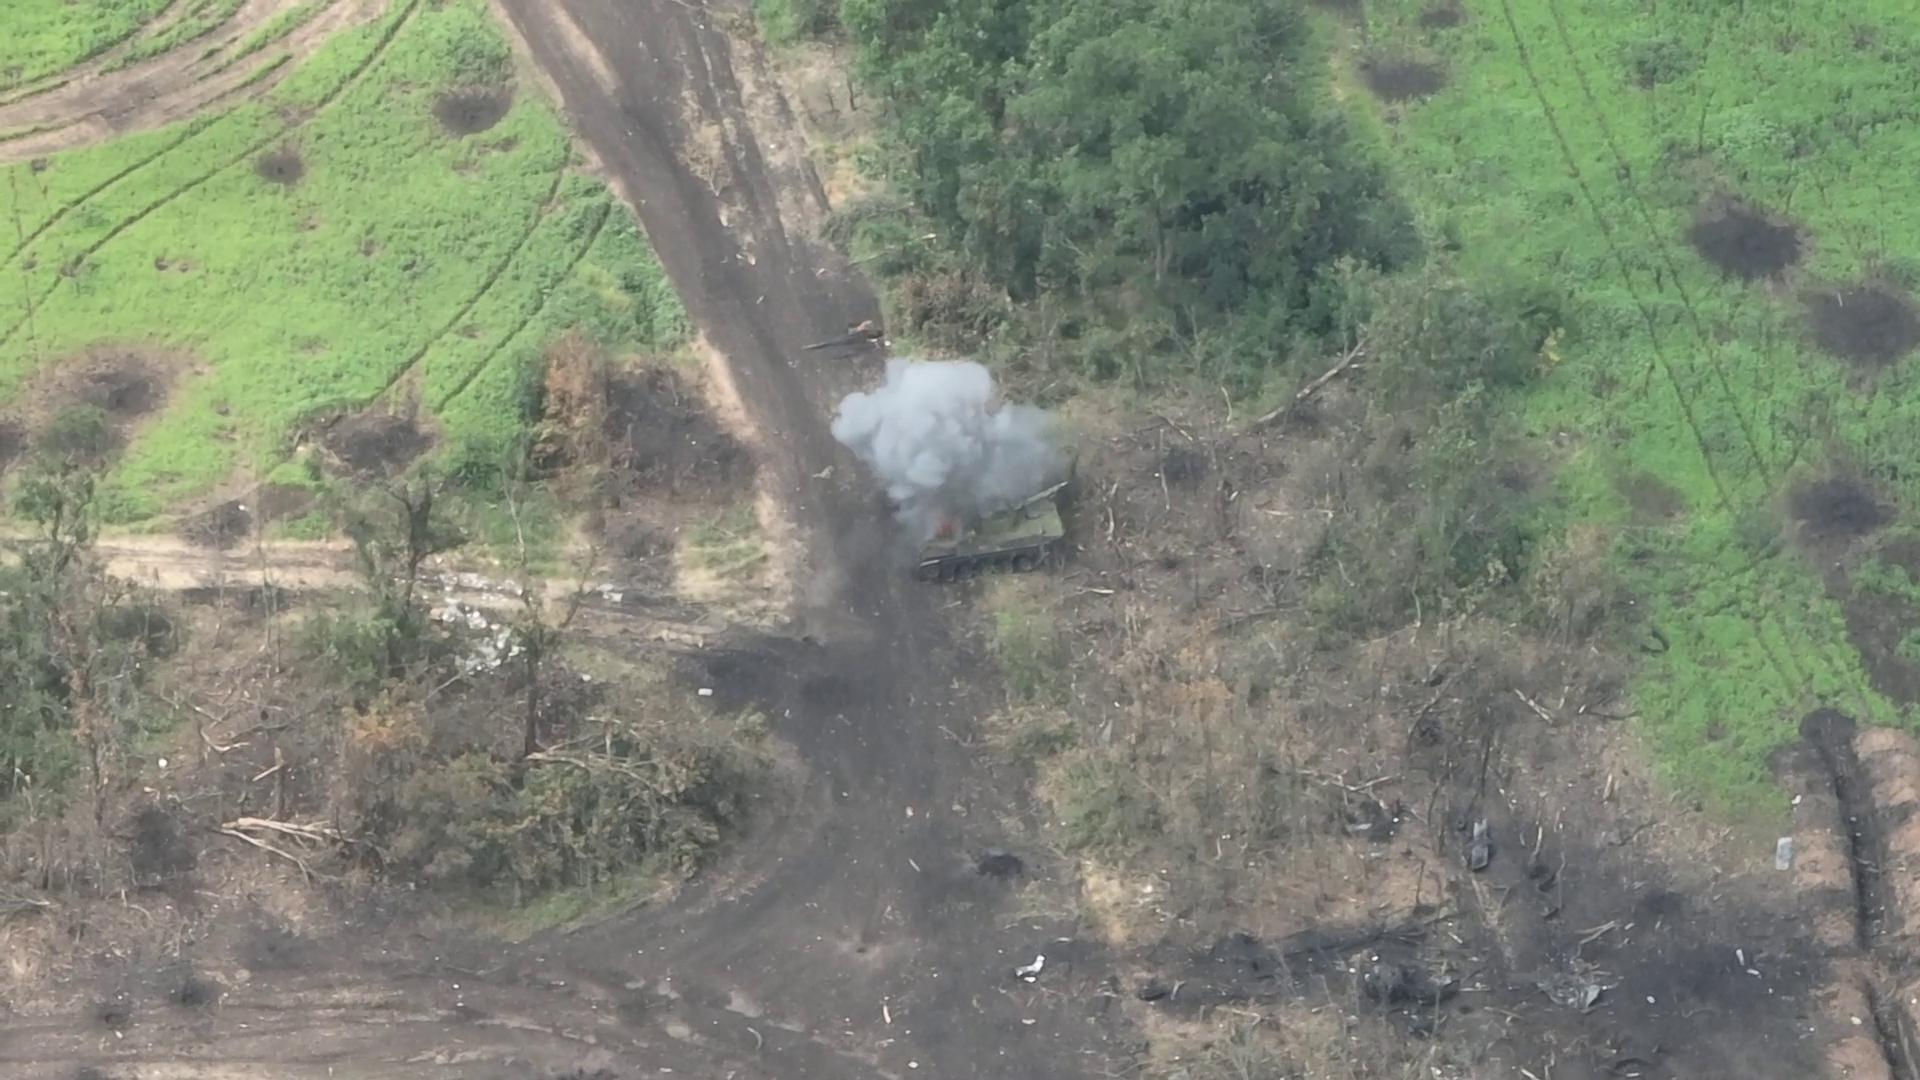tank: (909, 479, 1075, 585)
